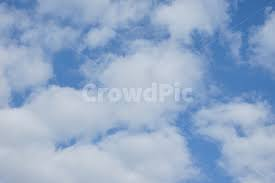sky: (2, 1, 275, 182)
